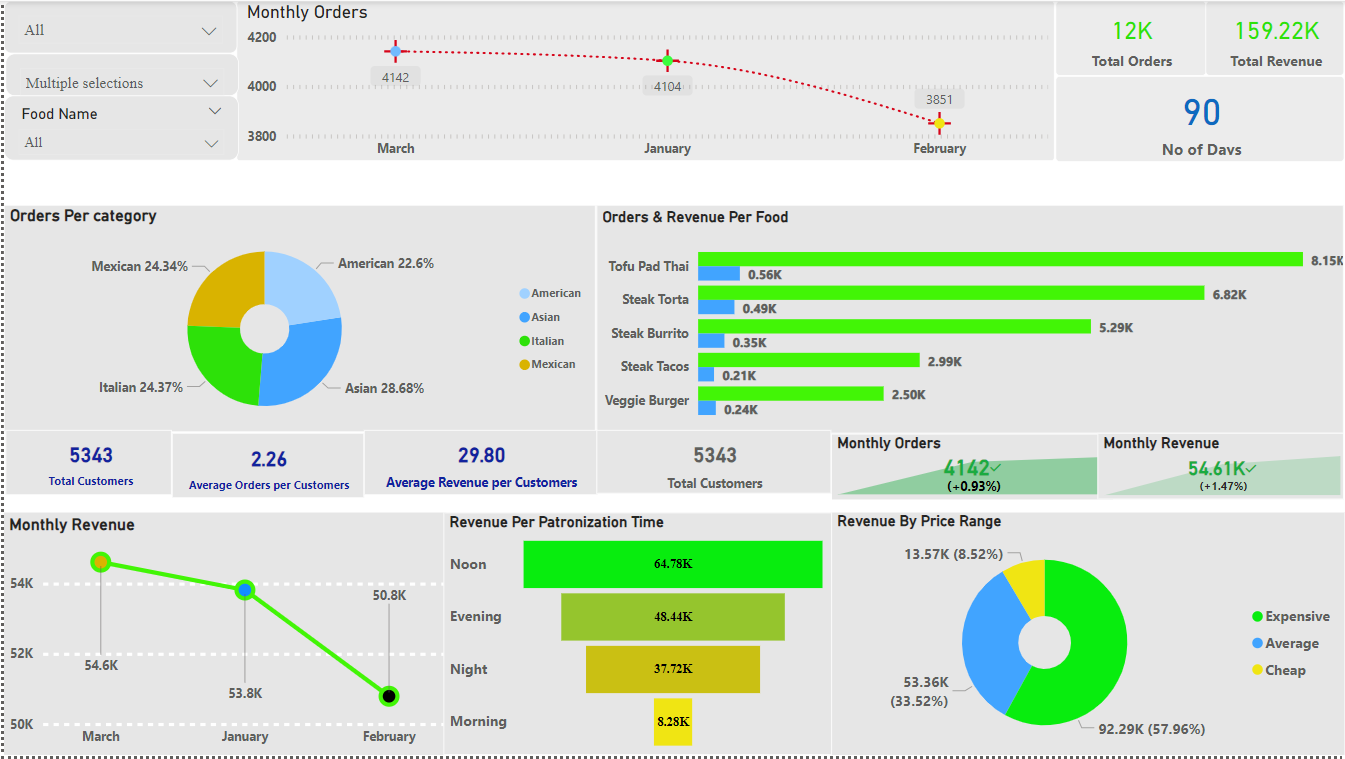

Layout of this report page (visuals, bound fields, positions):
{"tool":"powerbi","page":{"name":"Restaurant Visuals","canvas":[1280,720],"ordinal":0},"visuals":[{"type":"card","fields":{"Values":["Table.No of Days"]},"box":[1003.1,71.1,276.9,81.7],"z":0},{"type":"card","fields":{"Values":["Table.Total Orders"]},"box":[1003.1,0,143.7,71.1],"z":1000},{"type":"card","fields":{"Values":["Table.Total Revenue"]},"box":[1146.9,0,133.1,71.1],"z":2000},{"type":"lineChart","title":"Monthly Orders","fields":{"Category":["order_details.Month Name"],"Y":["Table.Total Orders"]},"box":[222.4,0,780.7,152.8],"z":3000},{"type":"donutChart","title":"Orders Per category","fields":{"Series":["menu_items.category"],"Y":["Table.Total Orders"]},"box":[0,195.2,564.3,216.4],"z":4000},{"type":"clusteredBarChart","title":"Orders & Revenue Per Food","fields":{"Category":["menu_items.item_name"],"Y":["Table.Total Revenue","Table.Total Orders"]},"box":[565.9,195.2,714.1,217.9],"z":5000},{"type":"card","fields":{"Values":["Table.Total Customers"]},"box":[1.5,410,158.9,62],"z":6000},{"type":"card","fields":{"Values":["Table.Average Orders per Customers"]},"box":[160.4,411.5,183.1,62],"z":7000},{"type":"card","fields":{"Values":["Table.Average Revenue per Customers"]},"box":[343.5,410,222.4,62],"z":8000},{"type":"kpi","title":"Monthly Orders","fields":{"Indicator":["Table.Total Orders"],"TrendLine":["order_details.Month Name"],"Goal":["Table.Total Orders by Month"]},"box":[789.8,413,267.8,62],"z":9000},{"type":"kpi","title":"Monthly Revenue","fields":{"TrendLine":["order_details.Month Name"],"Indicator":["Table.Total Revenue"],"Goal":["Table.Total Revenue by Month"]},"box":[1044,411.5,236,63.5],"z":10000},{"type":"card","fields":{"Values":["Table.Total Customers"]},"box":[565.9,410,223.9,60.5],"z":11000},{"type":"lineChart","title":"Monthly Revenue","fields":{"Category":["order_details.Month Name"],"Y":["Table.Total Revenue"]},"box":[0,488.7,422.1,231.5],"z":12000},{"type":"donutChart","title":" Revenue By Price Range","fields":{"Category":["menu_items.Price Range"],"Y":["Table.Total Revenue"]},"box":[789.8,488.7,490.2,231.5],"z":13000},{"type":"slicer","fields":{"Values":["menu_items.category"]},"box":[1.5,49.9,222.4,40.9],"z":14000},{"type":"slicer","fields":{"Values":["menu_items.item_name"]},"box":[0,90.8,223.9,62],"z":15000},{"type":"funnel","title":"Revenue Per Patronization Time ","fields":{"Category":["order_details.Patronization Time"],"Y":["Table.Total Revenue"]},"box":[419.1,488.7,370.7,231.5],"z":16000},{"type":"slicer","fields":{"Values":["order_details.Month Name"]},"box":[0,0,221.9,50.1],"z":17000}]}

Visuals, with their boxes in screenshot pixels (x1, y1, x2, y2), scaled from the page's 1280x720 canvas onto the 1345x759 screenshot:
card - Table.No of Days: detection(1054, 75, 1344, 161)
card - Table.Total Orders: detection(1054, 0, 1205, 75)
card - Table.Total Revenue: detection(1205, 0, 1344, 75)
"Monthly Orders" lineChart: detection(234, 0, 1054, 161)
"Orders Per category" donutChart: detection(0, 206, 593, 434)
"Orders & Revenue Per Food" clusteredBarChart: detection(595, 206, 1344, 435)
card - Table.Total Customers: detection(2, 432, 169, 498)
card - Table.Average Orders per Customers: detection(169, 434, 361, 499)
card - Table.Average Revenue per Customers: detection(361, 432, 595, 498)
"Monthly Orders" kpi: detection(830, 435, 1111, 501)
"Monthly Revenue" kpi: detection(1097, 434, 1344, 501)
card - Table.Total Customers: detection(595, 432, 830, 496)
"Monthly Revenue" lineChart: detection(0, 515, 444, 758)
" Revenue By Price Range" donutChart: detection(830, 515, 1344, 758)
slicer - menu_items.category: detection(2, 53, 235, 96)
slicer - menu_items.item_name: detection(0, 96, 235, 161)
"Revenue Per Patronization Time " funnel: detection(440, 515, 830, 758)
slicer - order_details.Month Name: detection(0, 0, 233, 53)
